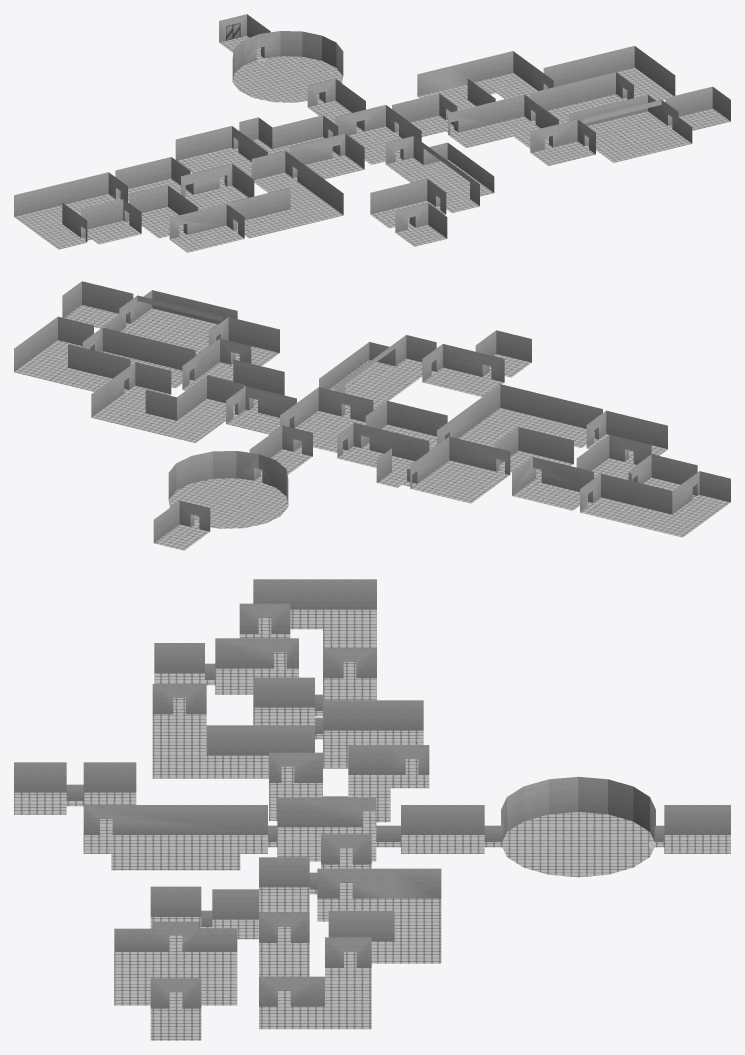
File: level_2_model.glb
The picture shows the model from 3 angles, top to bottom: view 1: azimuth 30°, elevation 25°; view 2: azimuth 150°, elevation 25°; view 3: azimuth 270°, elevation 25°; orthographic projection. The views are drawn at different scales.
Visible parts, largest first — view 1: Cube-col.009, Cube-col.003, Cube-col.006, Cube-col.005, Cube-col.004; view 2: Cube-col.009, Cube-col.003, Cube-col.006, Cube-col.005, Cube-col.004; view 3: Cube-col.009, Cube-col.003, Cube-col.006, Cube-col.005, Cube-col.004.
Boxes of the visible parts, <box> form: Cube-col.009: <box>14,36,730,252</box>; Cube-col.003: <box>14,115,364,241</box>; Cube-col.006: <box>392,46,730,154</box>; Cube-col.005: <box>335,105,494,238</box>; Cube-col.004: <box>219,14,365,131</box>; Cube-col.009: <box>14,305,730,550</box>; Cube-col.003: <box>337,384,730,514</box>; Cube-col.006: <box>14,281,296,428</box>; Cube-col.005: <box>280,330,531,428</box>; Cube-col.004: <box>153,425,312,542</box>; Cube-col.009: <box>14,609,730,1040</box>; Cube-col.003: <box>152,579,429,797</box>; Cube-col.006: <box>114,834,441,1008</box>; Cube-col.005: <box>14,762,376,841</box>; Cube-col.004: <box>376,776,730,847</box>.
Size of the model in its own units: 132 by 5.09 by 92.61.
Materials: 7 (7 with a texture image).
